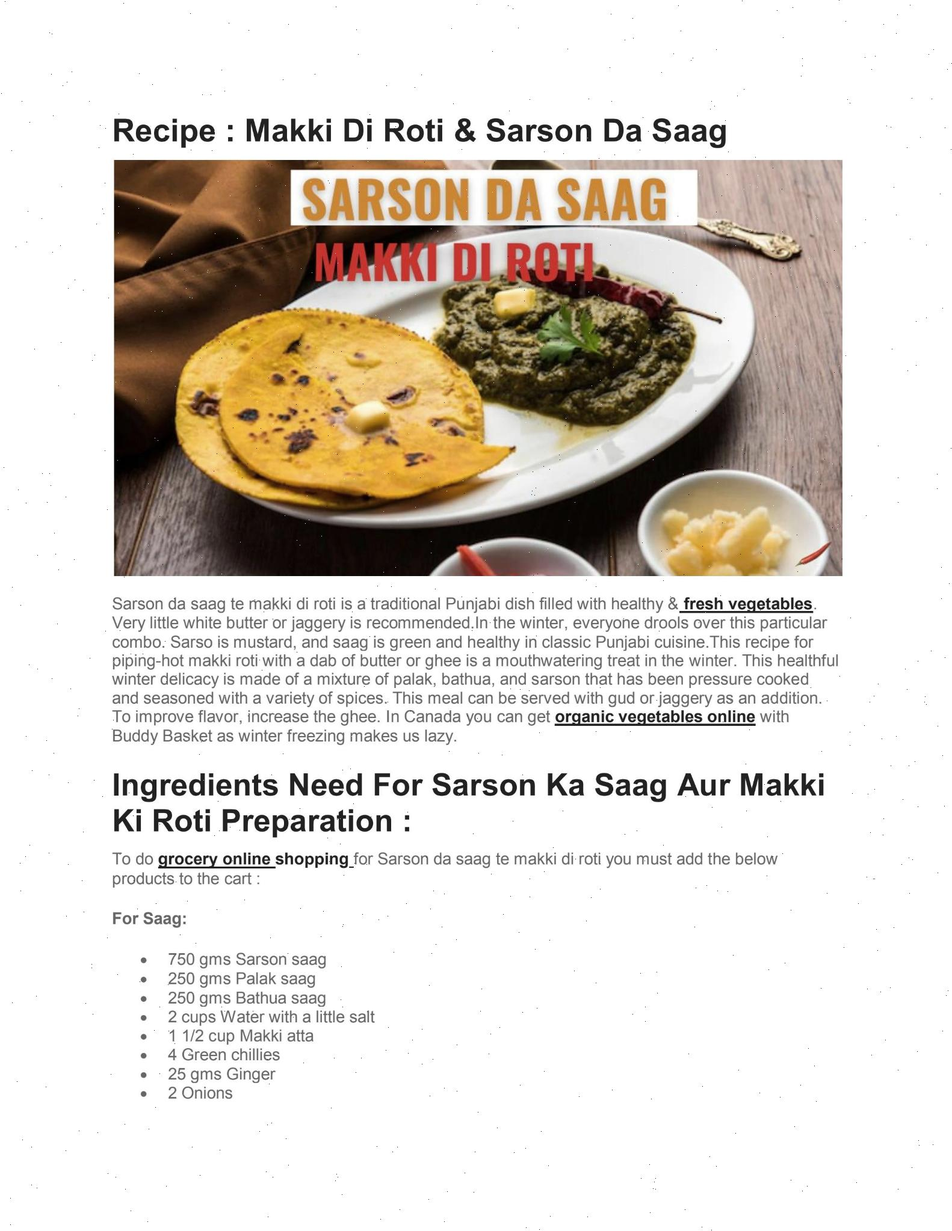saag: (451, 297, 693, 400)
